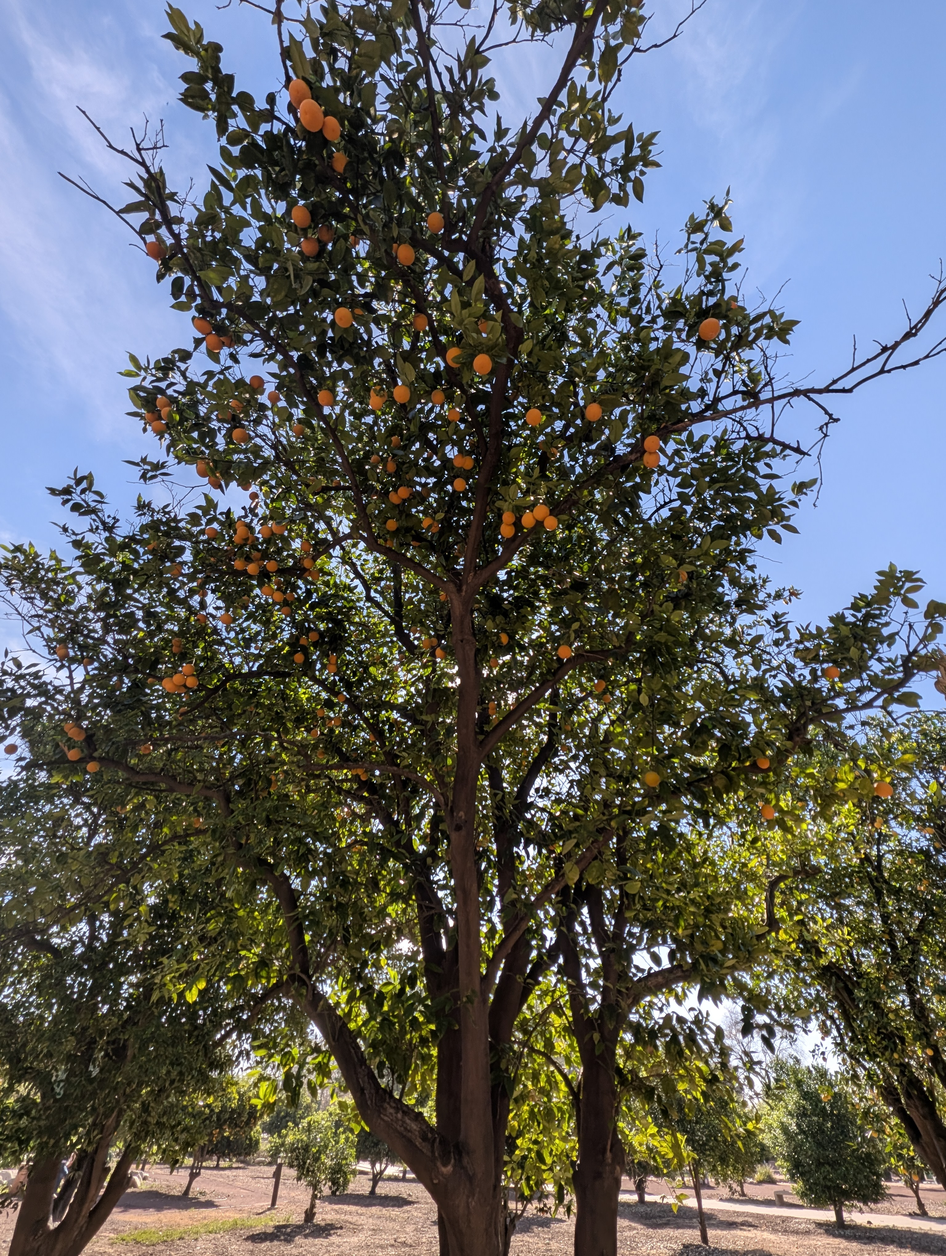orange: (299, 99, 324, 132), (289, 78, 311, 108), (698, 317, 721, 341), (322, 116, 341, 143), (145, 238, 166, 261), (395, 243, 415, 266), (291, 205, 311, 228), (334, 307, 353, 328), (427, 211, 445, 233), (473, 353, 491, 375), (300, 237, 319, 256), (192, 317, 212, 335), (331, 152, 348, 173), (205, 333, 223, 352), (317, 224, 334, 244), (445, 346, 461, 367), (317, 389, 335, 407), (526, 408, 543, 426), (644, 434, 660, 453), (875, 781, 894, 797), (232, 427, 249, 444), (412, 313, 428, 331), (585, 403, 601, 421), (642, 452, 660, 468), (394, 385, 410, 403), (533, 504, 549, 521), (372, 387, 388, 403), (521, 511, 536, 528), (823, 665, 840, 680), (431, 389, 445, 406), (249, 375, 264, 389), (447, 408, 461, 423), (228, 398, 243, 412), (500, 524, 515, 538), (544, 515, 558, 530), (557, 645, 572, 659), (646, 772, 660, 787), (760, 805, 774, 820), (155, 396, 171, 409), (292, 422, 306, 436), (152, 421, 166, 434), (208, 476, 222, 489), (220, 612, 233, 626), (246, 562, 259, 576), (272, 523, 287, 535), (305, 568, 320, 580), (267, 390, 280, 403), (170, 563, 183, 576), (503, 511, 516, 524), (453, 478, 466, 491), (164, 678, 177, 691), (385, 518, 397, 532), (478, 319, 489, 334), (145, 411, 158, 423), (220, 335, 233, 347), (205, 527, 218, 539), (260, 525, 272, 538), (234, 558, 247, 570), (370, 398, 383, 410), (266, 560, 278, 572), (272, 590, 284, 602), (261, 585, 273, 597), (453, 454, 465, 466), (198, 466, 210, 478), (68, 747, 80, 759), (350, 235, 361, 248), (161, 407, 171, 421), (301, 540, 312, 552), (594, 680, 605, 692), (389, 491, 401, 502), (676, 570, 687, 582), (462, 457, 475, 467), (196, 613, 207, 624), (422, 517, 433, 528), (302, 558, 314, 568), (391, 436, 401, 448), (499, 632, 509, 644), (307, 631, 319, 641), (87, 761, 99, 771), (755, 760, 770, 768), (249, 491, 259, 502), (251, 551, 262, 561), (371, 454, 381, 465), (601, 693, 612, 703), (183, 665, 194, 675), (186, 676, 197, 686), (141, 742, 151, 753), (6, 744, 17, 754), (58, 650, 69, 660), (238, 481, 250, 490), (285, 592, 295, 602), (175, 672, 185, 682), (65, 723, 75, 733), (397, 487, 408, 496), (281, 606, 291, 615), (387, 461, 396, 471), (238, 528, 248, 537), (327, 664, 337, 673), (432, 522, 440, 533), (421, 639, 432, 647), (191, 818, 202, 826), (329, 655, 338, 664), (367, 732, 376, 741), (354, 308, 364, 316), (317, 708, 327, 716), (68, 728, 78, 736), (74, 732, 84, 740), (195, 461, 208, 467), (294, 653, 305, 660), (56, 646, 67, 653), (147, 542, 156, 550), (436, 648, 445, 656), (300, 636, 308, 645), (337, 694, 346, 702), (333, 718, 342, 726), (310, 729, 319, 737), (199, 589, 209, 596), (488, 659, 498, 666), (173, 638, 181, 646), (83, 658, 91, 666), (247, 536, 256, 543), (238, 521, 246, 528), (235, 535, 243, 542), (430, 638, 438, 645), (172, 646, 180, 653), (439, 594, 448, 600), (327, 719, 334, 726), (731, 300, 737, 308), (178, 687, 186, 693), (333, 480, 341, 485), (357, 769, 365, 774), (490, 702, 496, 708), (148, 679, 155, 684), (362, 774, 368, 779), (490, 710, 496, 715)
